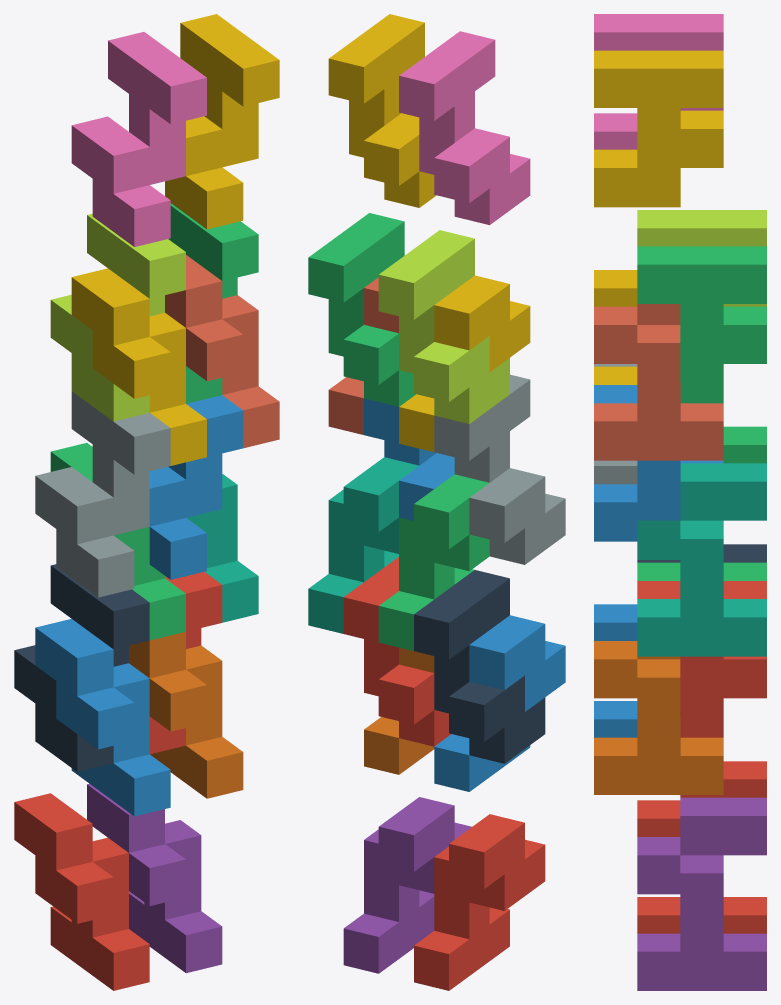
Rendered from tiling.obj.
3 views of the same model, side by side, from view 1: azimuth 30°, elevation 25°; view 2: azimuth 150°, elevation 25°; view 3: azimuth 270°, elevation 25° (orthographic). The views are drawn at different scales.
Parts seen in each view (by area): view 1: copy_2_domain_4, copy_2_domain_2, copy_1_domain_1, copy_1_domain_2, copy_2_domain_8, copy_1_domain_5, copy_1_domain_4, copy_1_domain_6, copy_1_domain_8, copy_2_domain_1, copy_2_domain_6, copy_2_domain_3 (+4 smaller); view 2: copy_2_domain_4, copy_1_domain_1, copy_2_domain_3, copy_2_domain_1, copy_2_domain_8, copy_1_domain_5, copy_2_domain_2, copy_2_domain_7, copy_1_domain_3, copy_1_domain_7, copy_1_domain_2, copy_2_domain_5 (+4 smaller); view 3: copy_1_domain_5, copy_1_domain_7, copy_2_domain_8, copy_2_domain_7, copy_1_domain_8, copy_1_domain_6, copy_2_domain_5, copy_1_domain_1, copy_2_domain_4, copy_2_domain_6, copy_2_domain_3, copy_1_domain_3 (+4 smaller).
Boxes of the visible parts, x1,y1,x2,y2 form: copy_2_domain_4: [71, 32, 206, 246]; copy_2_domain_2: [35, 391, 170, 597]; copy_1_domain_1: [14, 793, 149, 990]; copy_1_domain_2: [35, 619, 170, 816]; copy_2_domain_8: [165, 14, 279, 229]; copy_1_domain_5: [87, 783, 222, 973]; copy_1_domain_4: [71, 268, 206, 465]; copy_1_domain_6: [129, 632, 243, 798]; copy_1_domain_8: [165, 255, 279, 448]; copy_2_domain_1: [14, 564, 149, 771]; copy_2_domain_6: [149, 395, 243, 579]; copy_2_domain_3: [50, 213, 185, 421]; copy_2_domain_4: [399, 31, 530, 225]; copy_1_domain_1: [414, 814, 545, 990]; copy_2_domain_3: [378, 230, 509, 423]; copy_2_domain_1: [414, 570, 545, 763]; copy_2_domain_8: [328, 14, 436, 207]; copy_1_domain_5: [343, 797, 471, 973]; copy_2_domain_2: [434, 374, 565, 564]; copy_2_domain_7: [308, 213, 415, 406]; copy_1_domain_3: [378, 474, 489, 650]; copy_1_domain_7: [308, 457, 418, 633]; copy_1_domain_2: [434, 615, 565, 791]; copy_2_domain_5: [343, 557, 450, 746]; copy_1_domain_5: [637, 797, 766, 990]; copy_1_domain_7: [637, 463, 766, 656]; copy_2_domain_8: [594, 50, 723, 207]; copy_2_domain_7: [637, 246, 766, 403]; copy_1_domain_8: [594, 304, 723, 460]; copy_1_domain_6: [594, 641, 723, 794]; copy_2_domain_5: [637, 581, 766, 737]; copy_1_domain_1: [637, 761, 766, 933]; copy_2_domain_4: [594, 14, 723, 149]; copy_2_domain_6: [594, 385, 723, 541]; copy_2_domain_3: [637, 210, 766, 306]; copy_1_domain_3: [637, 426, 766, 580].
Size of the model in its own units: 5 by 24 by 4.
